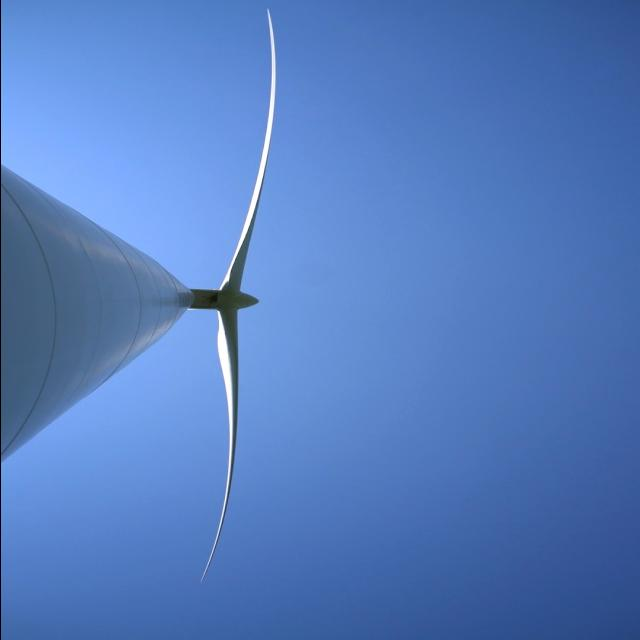blade 1: (227, 15, 299, 248)
blade 2: (188, 330, 258, 536)
